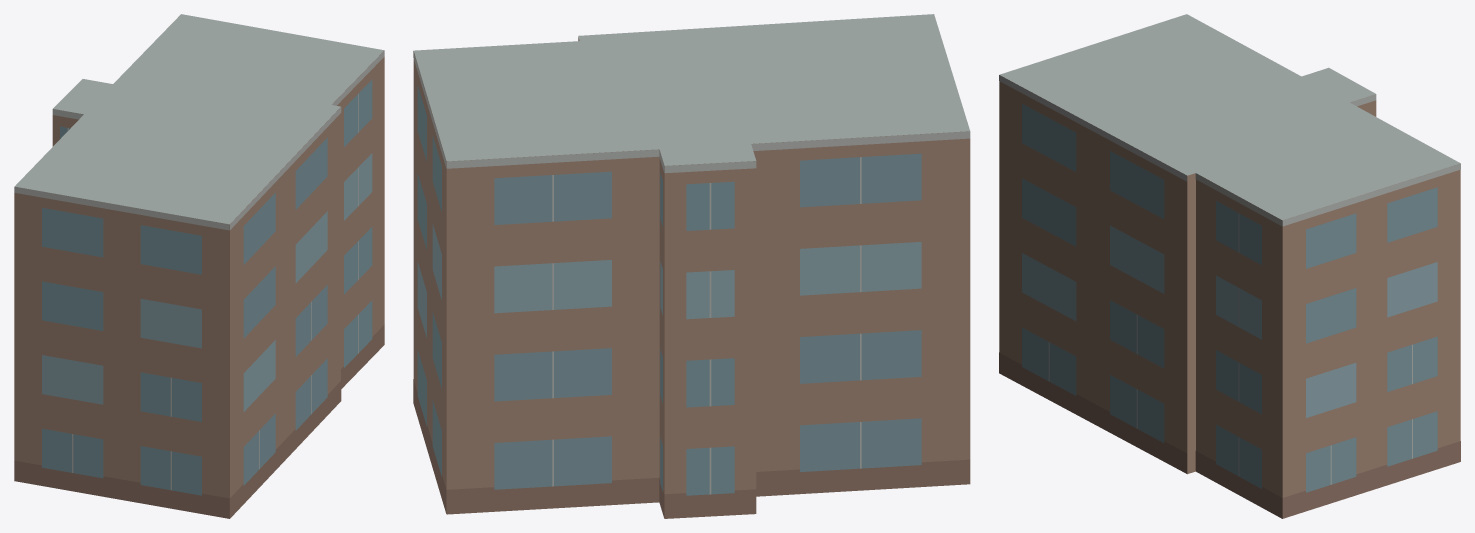
File: survey-upis-32630621.glb
The picture shows the model from 3 angles, left to right: view 1: azimuth 30°, elevation 25°; view 2: azimuth 150°, elevation 25°; view 3: azimuth 270°, elevation 25°; orthographic projection. The views are drawn at different scales.
Parts seen in each view (by area): view 1: survey-upis-32630621.tmp; view 2: survey-upis-32630621.tmp; view 3: survey-upis-32630621.tmp.
Boxes of the visible parts, <box> form: survey-upis-32630621.tmp: <box>14,14,384,518</box>; survey-upis-32630621.tmp: <box>413,14,970,518</box>; survey-upis-32630621.tmp: <box>999,14,1460,518</box>.
Bounding box in the file's own units: 17.36 × 11.7 × 16.41.
